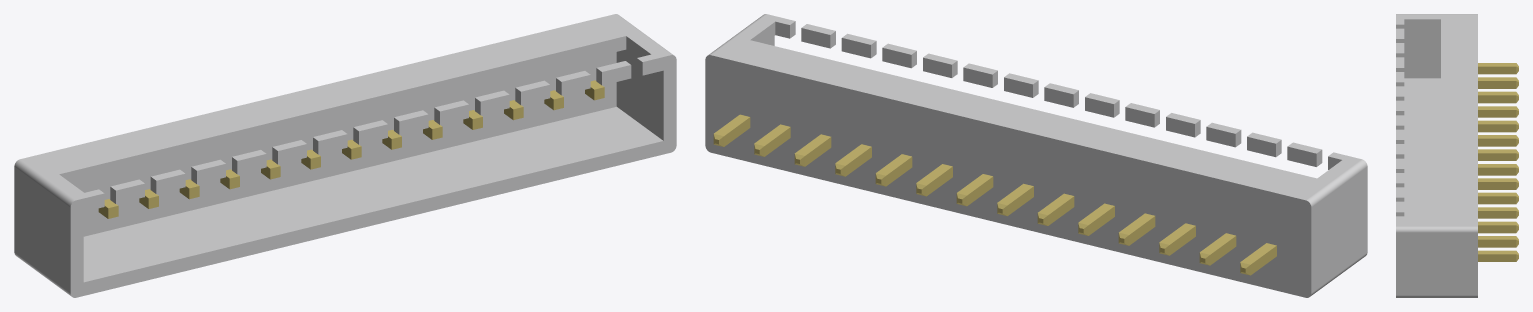
The model's file is jst_xh_14pin.glb.
3 views of the same model, side by side, from view 1: azimuth 30°, elevation 25°; view 2: azimuth 150°, elevation 25°; view 3: azimuth 270°, elevation 25° (orthographic). The views are drawn at different scales.
Visible parts, largest first — view 1: world; view 2: world; view 3: world.
Part boxes in pixels (x1,y1,x2,y2): world: (14, 14, 676, 297); world: (705, 14, 1367, 297); world: (1396, 14, 1518, 297).
Bounding box in the file's own units: 37.4 × 5.75 × 9.
